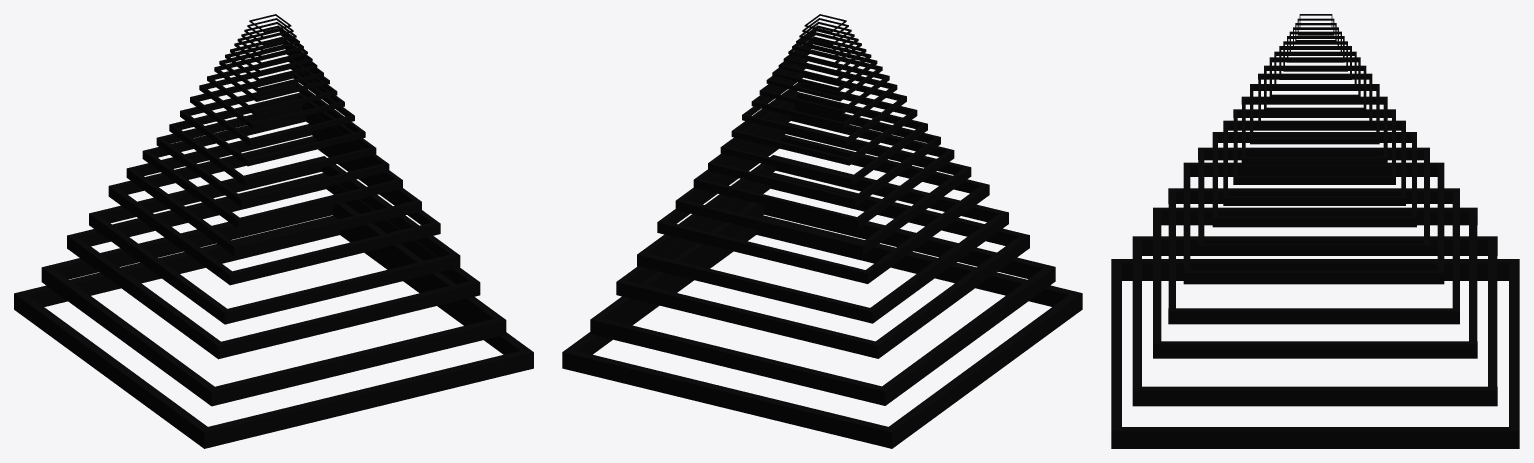
3 renders of one model, left to right at view 1: azimuth 30°, elevation 25°; view 2: azimuth 150°, elevation 25°; view 3: azimuth 270°, elevation 25°, orthographic. The views are drawn at different scales.
Parts seen in each view (by area): view 1: mesh_id405, mesh_id439, mesh_id420, mesh_id457, mesh_id441, mesh_id421, mesh_id491, mesh_id442, mesh_id459, mesh_id498, mesh_id460, mesh_id493 (+29 smaller); view 2: mesh_id421, mesh_id442, mesh_id420, mesh_id460, mesh_id405, mesh_id441, mesh_id494, mesh_id439, mesh_id459, mesh_id501, mesh_id493, mesh_id457 (+30 smaller); view 3: mesh_id399, mesh_id438, mesh_id456, mesh_id490, mesh_id420, mesh_id497, mesh_id441, mesh_id459, mesh_id504, mesh_id500, mesh_id493, mesh_id555 (+29 smaller).
Part boxes in pixels (left/top/right/bottom): mesh_id405: left=199, top=350, right=525, bottom=448; mesh_id439: left=207, top=316, right=505, bottom=405; mesh_id420: left=19, top=295, right=212, bottom=448; mesh_id457: left=214, top=279, right=479, bottom=358; mesh_id441: left=42, top=265, right=219, bottom=406; mesh_id421: left=14, top=215, right=339, bottom=312; mesh_id491: left=221, top=254, right=454, bottom=324; mesh_id442: left=41, top=205, right=332, bottom=284; mesh_id459: left=67, top=234, right=224, bottom=359; mesh_id498: left=227, top=222, right=434, bottom=284; mesh_id460: left=67, top=173, right=326, bottom=250; mesh_id493: left=92, top=214, right=230, bottom=324; mesh_id421: left=571, top=350, right=896, bottom=448; mesh_id442: left=598, top=318, right=889, bottom=405; mesh_id420: left=883, top=291, right=1082, bottom=448; mesh_id460: left=616, top=279, right=882, bottom=358; mesh_id405: left=756, top=215, right=1082, bottom=312; mesh_id441: left=877, top=266, right=1050, bottom=405; mesh_id494: left=641, top=252, right=876, bottom=323; mesh_id439: left=764, top=205, right=1055, bottom=284; mesh_id459: left=871, top=233, right=1029, bottom=358; mesh_id501: left=662, top=221, right=870, bottom=283; mesh_id493: left=866, top=213, right=1005, bottom=323; mesh_id457: left=769, top=172, right=1029, bottom=250; mesh_id399: left=1122, top=427, right=1508, bottom=448; mesh_id438: left=1142, top=386, right=1497, bottom=406; mesh_id456: left=1161, top=341, right=1477, bottom=358; mesh_id490: left=1168, top=308, right=1459, bottom=324; mesh_id420: left=1118, top=259, right=1519, bottom=280; mesh_id497: left=1183, top=270, right=1444, bottom=284; mesh_id441: left=1132, top=236, right=1497, bottom=255; mesh_id459: left=1153, top=207, right=1477, bottom=225; mesh_id504: left=1198, top=243, right=1429, bottom=255; mesh_id500: left=1184, top=162, right=1437, bottom=176; mesh_id493: left=1168, top=188, right=1452, bottom=203; mesh_id555: left=1212, top=216, right=1416, bottom=227.
Size of the model in its own units: 0.6978 by 0.6414 by 0.6978.
92 materials, 92 textured.
